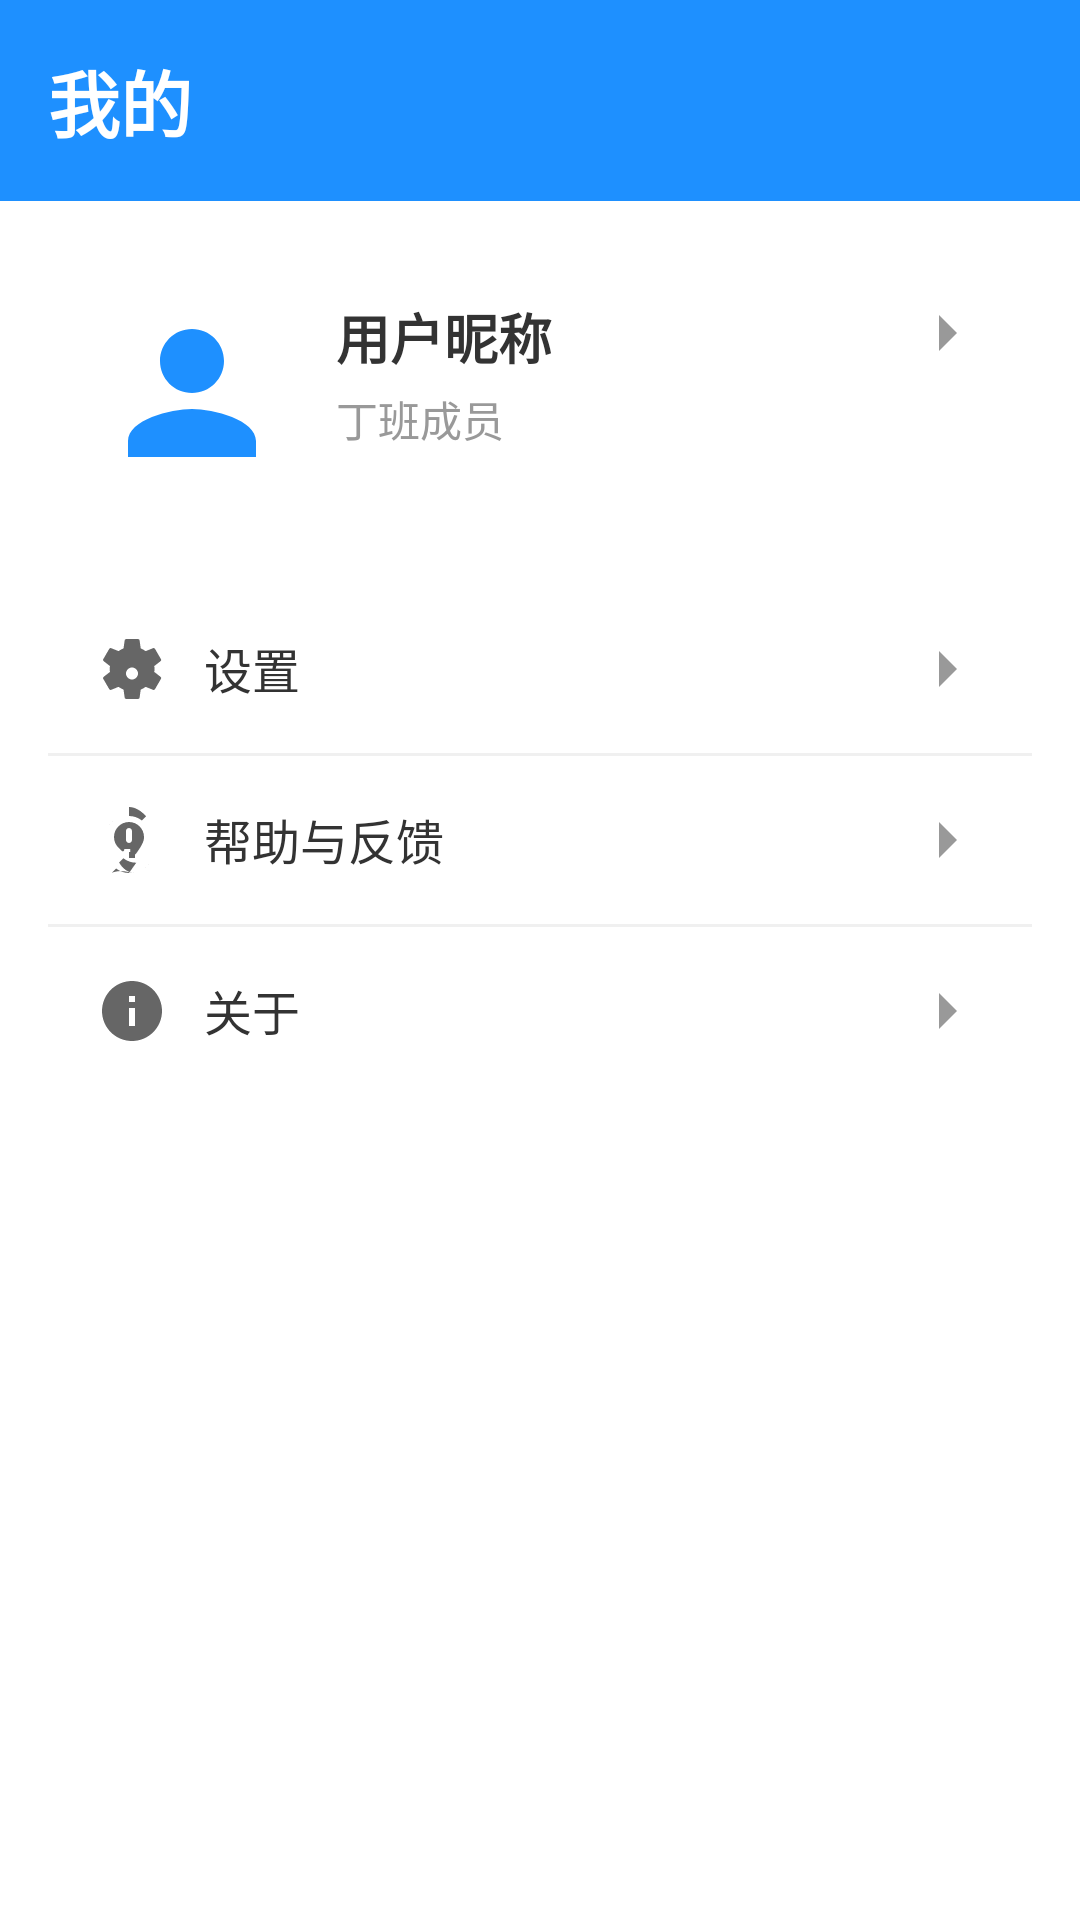

Where to tap for icons on this 1080 x 1920 app screen, as (x=x, y=y):
about: (x=132, y=1011)
arrow right: (x=948, y=333), (x=948, y=669), (x=948, y=840), (x=948, y=1011)
settings: (x=132, y=669)
user: (x=192, y=393)
